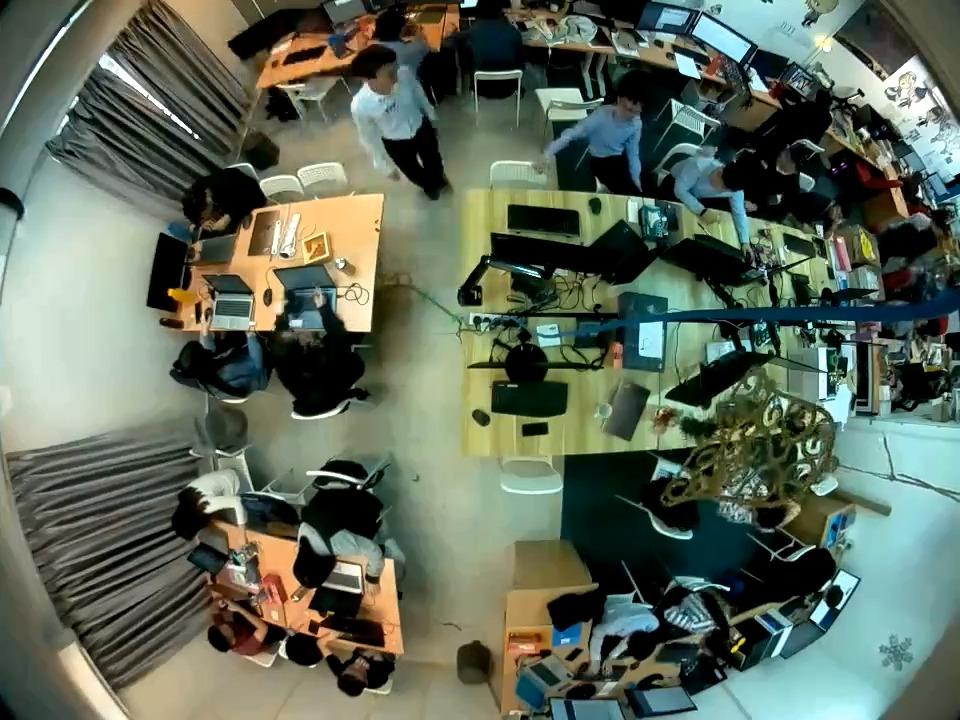name-tag: (383, 100, 398, 114)
